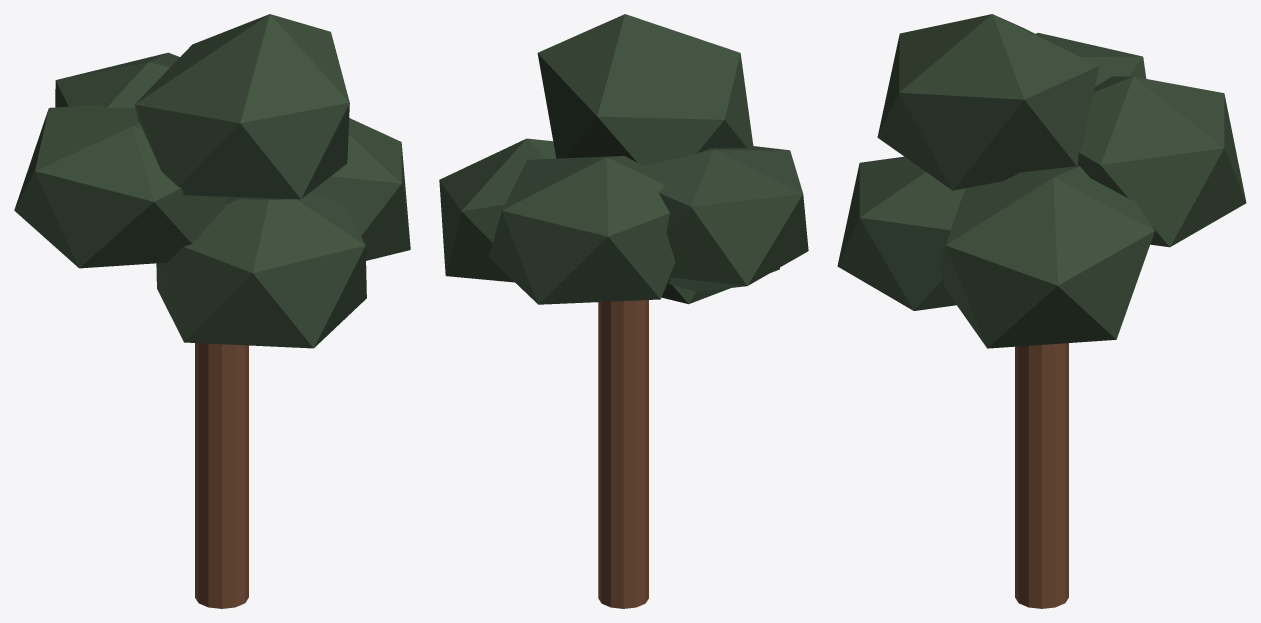
File: Tree01.fbx
3 views of the same model, side by side, from view 1: azimuth 30°, elevation 25°; view 2: azimuth 150°, elevation 25°; view 3: azimuth 270°, elevation 25° (orthographic). The views are drawn at different scales.
Visible parts, largest first — view 1: Leaves 3, Leaves 4, Leaves 1, Tree 1, Leaves 2, Icosphere.007; view 2: Leaves 3, Icosphere.007, Leaves 1, Tree 1, Leaves 2, Leaves 4; view 3: Leaves 2, Leaves 3, Icosphere.007, Tree 1, Leaves 4, Leaves 1.
Part boxes in pixels (<box>): Leaves 3: <box>134,14,349,199</box>; Leaves 4: <box>156,191,366,348</box>; Leaves 1: <box>14,104,227,268</box>; Tree 1: <box>195,343,248,608</box>; Leaves 2: <box>311,118,410,260</box>; Icosphere.007: <box>55,52,179,107</box>; Leaves 3: <box>537,14,753,165</box>; Icosphere.007: <box>489,156,675,304</box>; Leaves 1: <box>643,146,808,291</box>; Tree 1: <box>598,300,648,608</box>; Leaves 2: <box>439,138,556,282</box>; Leaves 4: <box>661,267,779,304</box>; Leaves 2: <box>938,166,1154,348</box>; Leaves 3: <box>877,14,1099,190</box>; Icosphere.007: <box>1078,76,1246,247</box>; Tree 1: <box>1015,343,1068,608</box>; Leaves 4: <box>837,156,965,310</box>; Leaves 1: <box>1036,32,1146,86</box>.
Bounding box in the file's own units: 169 × 256 × 160.
